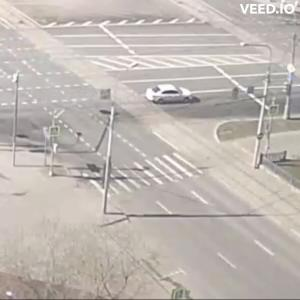car: (148, 84, 202, 106)
